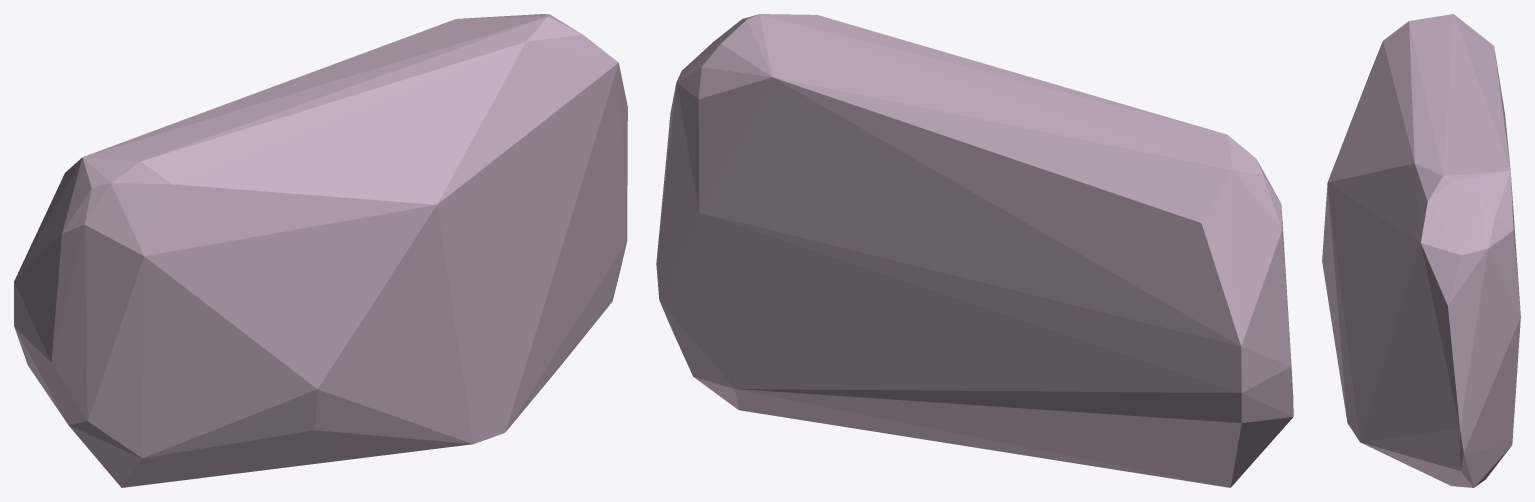
Rendered from food_prepared_bread_brioche_a01.glb.
3 views of the same model, side by side, from view 1: azimuth 30°, elevation 25°; view 2: azimuth 150°, elevation 25°; view 3: azimuth 270°, elevation 25° (orthographic). The views are drawn at different scales.
Parts seen in each view (by area): view 1: geometry_0; view 2: geometry_0; view 3: geometry_0.
Boxes of the visible parts, left/top/right/bottom form: geometry_0: left=14, top=14, right=627, bottom=487; geometry_0: left=656, top=14, right=1293, bottom=487; geometry_0: left=1322, top=14, right=1520, bottom=487.
Bounding box in the file's own units: 0.4754 × 0.276 × 0.1628.
